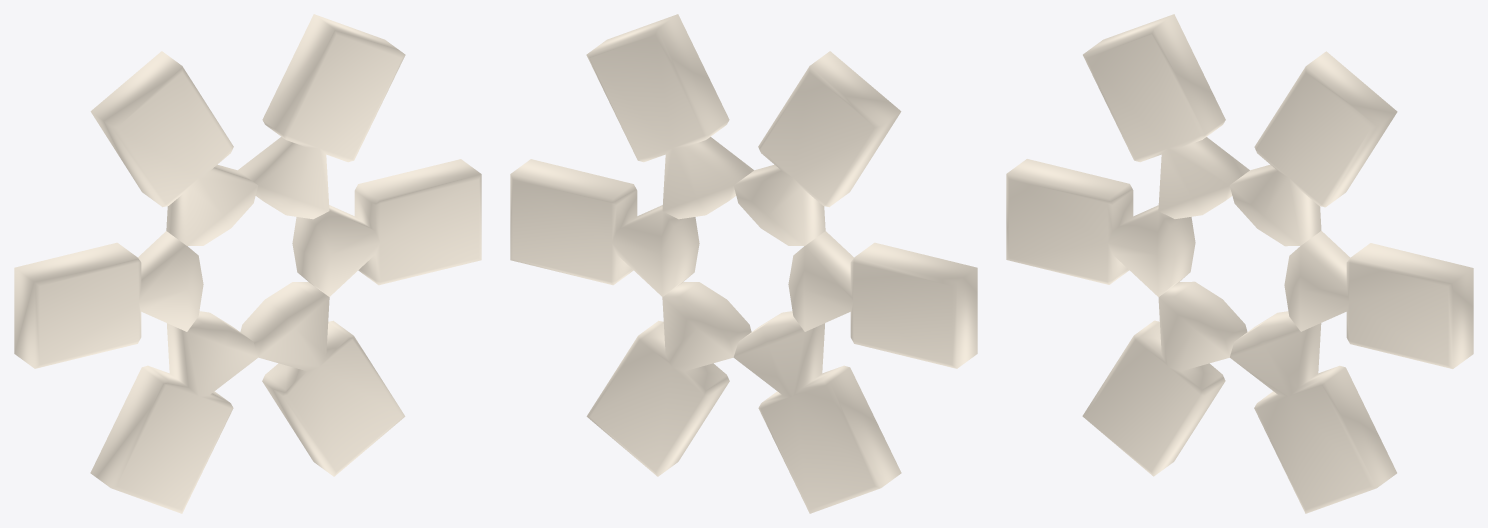
File: ps2_save-icons_virtualharumi.glb
The picture shows the model from 3 angles, left to right: view 1: azimuth 30°, elevation 25°; view 2: azimuth 150°, elevation 25°; view 3: azimuth 330°, elevation 25°; orthographic projection.
Visible parts, largest first — view 1: icon.ico; view 2: icon.ico; view 3: icon.ico.
Part boxes in pixels (box(x1,y1,x2,y2)): icon.ico: box(14, 14, 481, 513); icon.ico: box(510, 14, 977, 513); icon.ico: box(1006, 14, 1473, 513).
Bounding box in the file's own units: 4.18 × 4 × 0.3696.
Materials: 1 (1 with a texture image).
